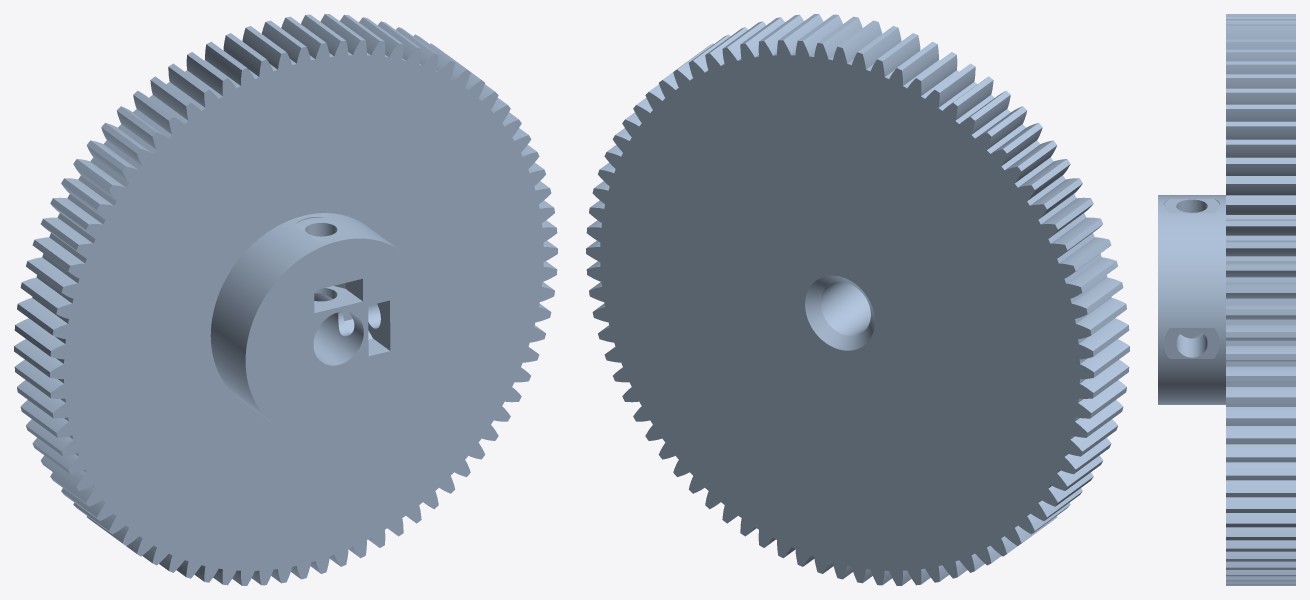
File: zupcanik2.obj
The picture shows the model from 3 angles, left to right: view 1: azimuth 30°, elevation 25°; view 2: azimuth 150°, elevation 25°; view 3: azimuth 270°, elevation 25°; orthographic projection. The views are drawn at different scales.
Parts seen in each view (by area): view 1: zupcanik2; view 2: zupcanik2; view 3: zupcanik2.
Part boxes in pixels (box(x1,y1,x2,y2)): zupcanik2: box(14, 14, 557, 585); zupcanik2: box(586, 14, 1129, 585); zupcanik2: box(1158, 14, 1295, 585).
Bounding box in the file's own units: 81.84 × 81.84 × 19.7.
